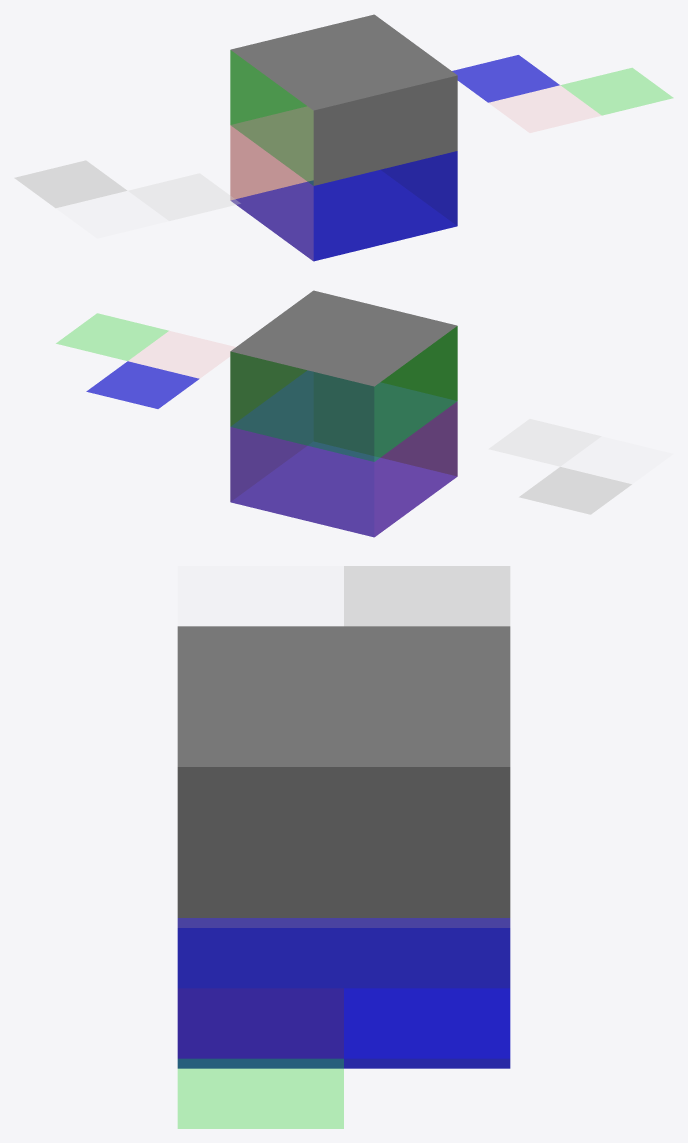
File: alpha_packing.out_alpha.glb
3 views of the same model, one above another, from view 1: azimuth 30°, elevation 25°; view 2: azimuth 150°, elevation 25°; view 3: azimuth 270°, elevation 25° (orthographic). The views are drawn at different scales.
Parts seen in each view (by area): view 1: Cube, Plane.001, Plane; view 2: Cube, Plane, Plane.001; view 3: Cube, Plane, Plane.001.
Boxes of the visible parts, x1,y1,x2,y2 form: Cube: (230, 14, 457, 261); Plane.001: (14, 160, 240, 220); Plane: (452, 55, 672, 115); Cube: (230, 290, 457, 537); Plane: (56, 313, 199, 408); Plane.001: (489, 419, 631, 514); Cube: (177, 626, 510, 1068); Plane: (178, 988, 510, 1128); Plane.001: (344, 566, 510, 626).
Bounding box in the file's own units: 8 × 2 × 2.
Materials: 3 (3 with a texture image).
